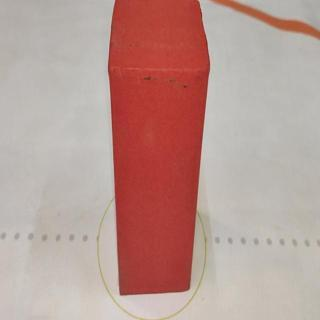redbox: (107, 0, 212, 294)
